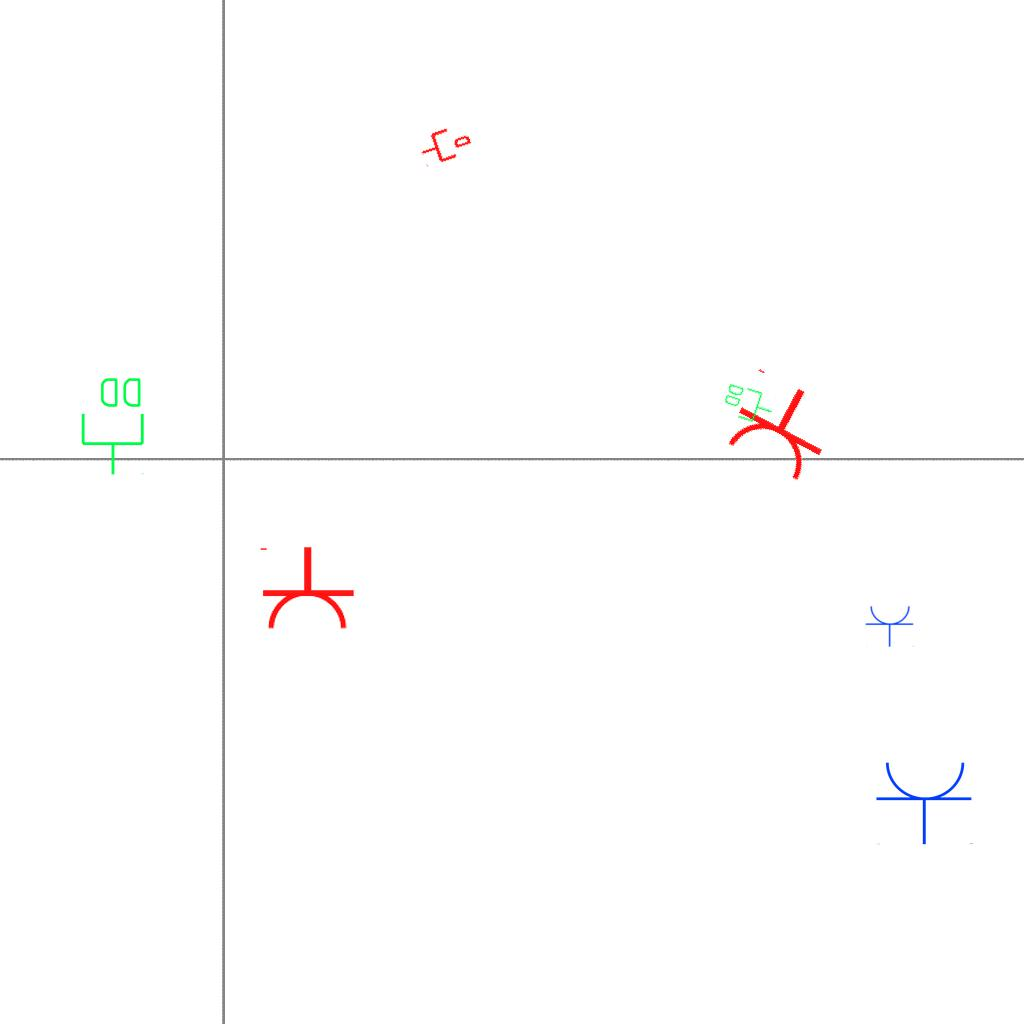Datenanschluss_einfach: (415, 120, 475, 170)
Datenanschluss_zweifach: (79, 374, 148, 477), (718, 379, 779, 429)
Schukosteckdose_einfach: (715, 364, 846, 488), (256, 545, 356, 632), (875, 758, 975, 845), (865, 604, 915, 647)
